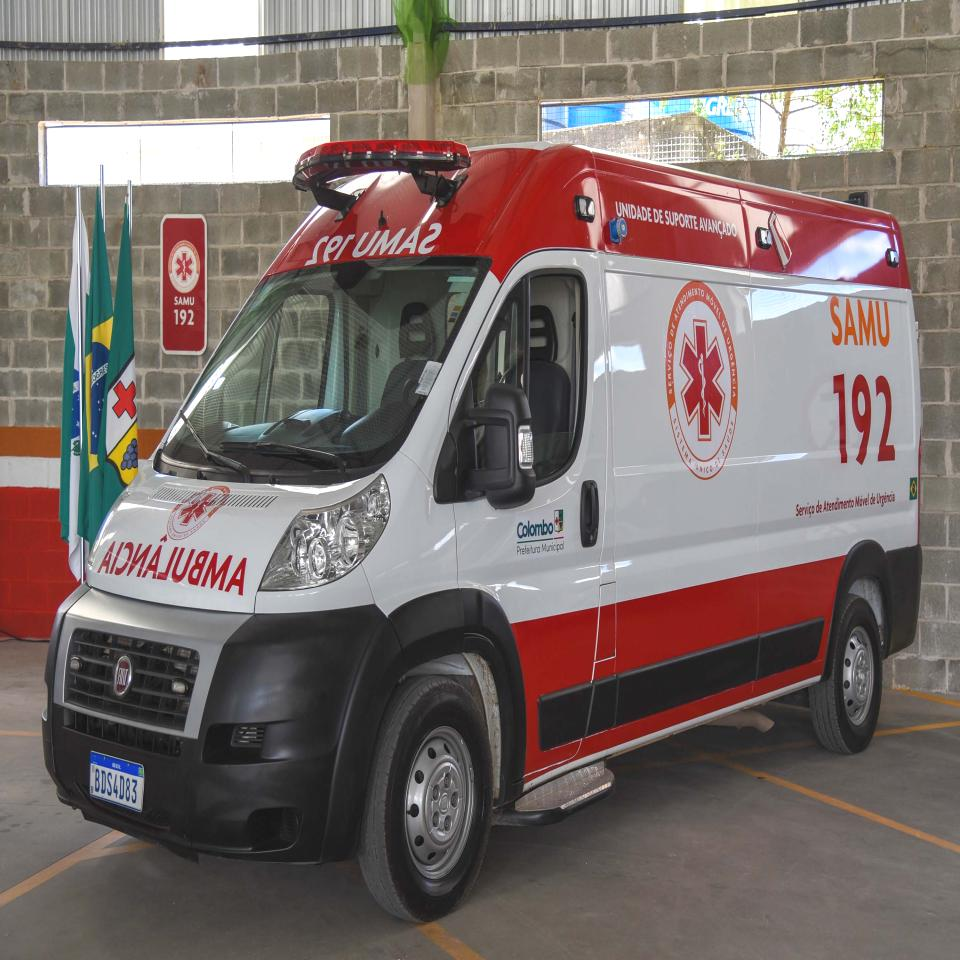ambulancia: (41, 138, 922, 923)
